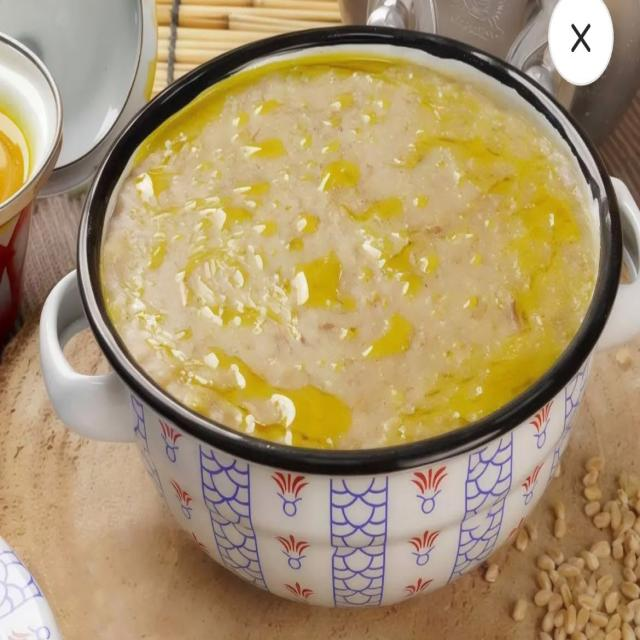Harees: (89, 48, 605, 452)
